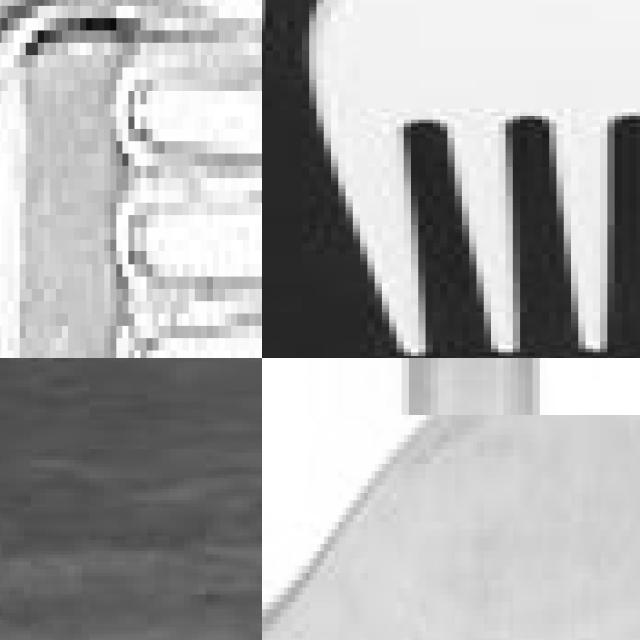forks: (0, 0, 262, 358)
spoons: (262, 447, 640, 640)
